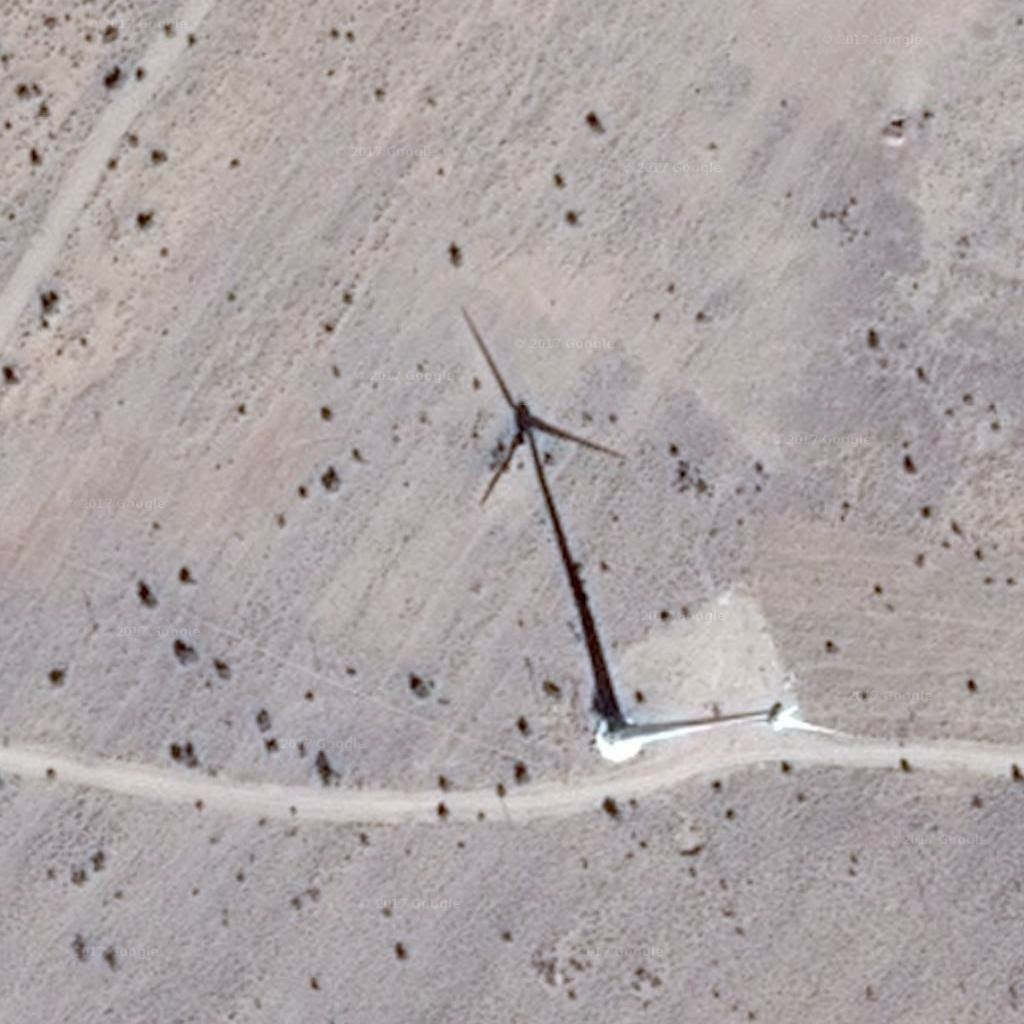Windmill: (451, 304, 642, 739)
